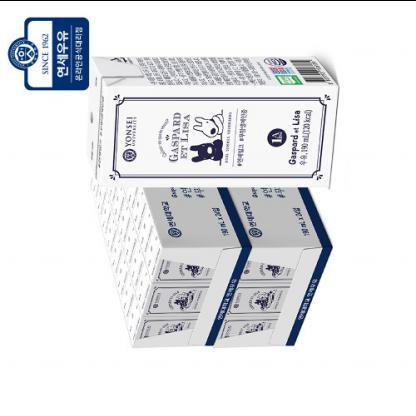tetra: (86, 50, 346, 197)
